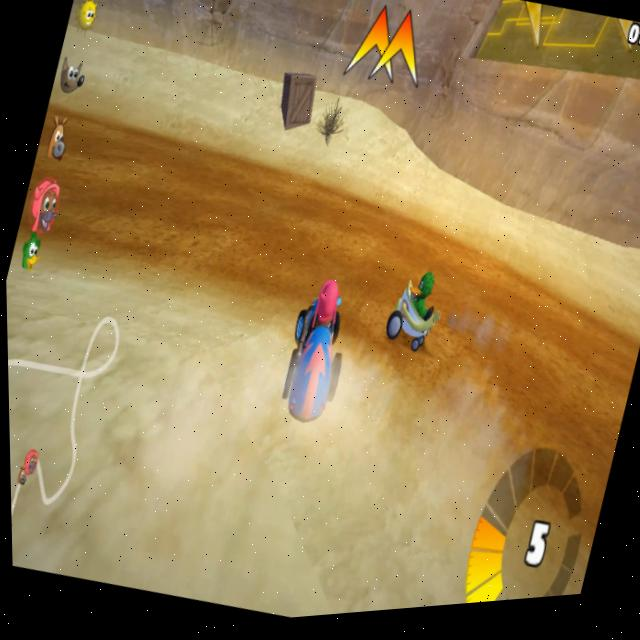enemy_kart: (377, 278, 447, 371)
off_track: (94, 9, 448, 225)
player_kart: (263, 279, 364, 432)
track: (80, 124, 391, 307)
